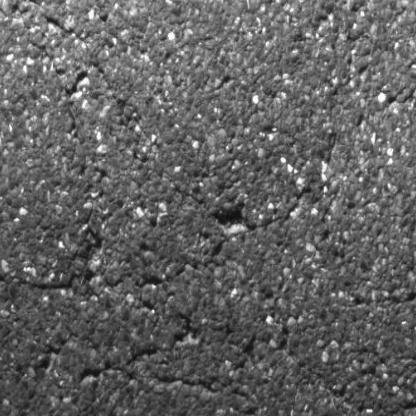Cracks: (102, 207, 285, 293), (0, 0, 91, 45), (0, 265, 98, 296)
